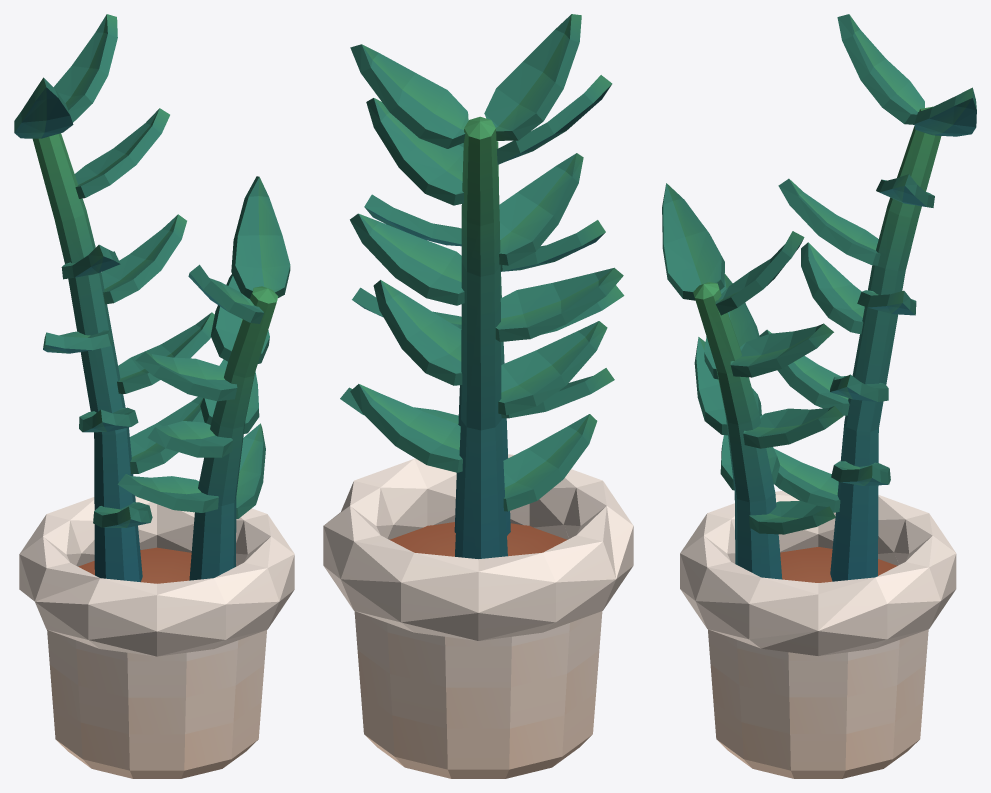
File: plant-fig.glb
3 views of the same model, side by side, from view 1: azimuth 30°, elevation 25°; view 2: azimuth 150°, elevation 25°; view 3: azimuth 270°, elevation 25° (orthographic). The views are drawn at different scales.
Visible parts, largest first — view 1: zzplant_plant_small_potted; view 2: zzplant_plant_small_potted; view 3: zzplant_plant_small_potted.
Part boxes in pixels (<box>): zzplant_plant_small_potted: <box>14,14,294,778</box>; zzplant_plant_small_potted: <box>323,14,633,778</box>; zzplant_plant_small_potted: <box>662,14,976,778</box>.
Bounding box in the file's own units: 0.5999 × 1.59 × 0.6665.
Materials: 1 (1 with a texture image).
